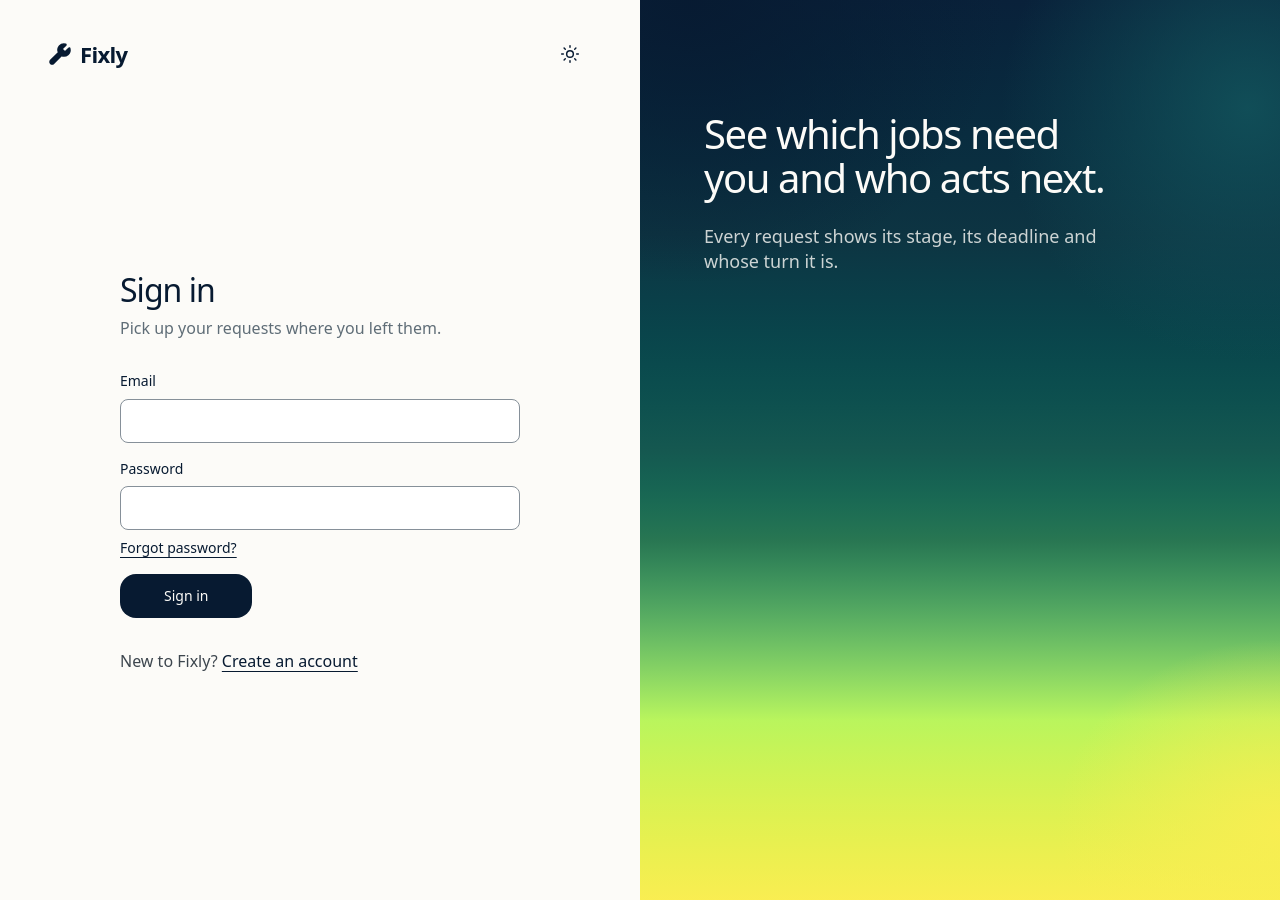
Test: login 401 shows the message and keeps values
The width and height of the screenshot is (1280, 900).
Type "a@b.com" into the field labelled "Email" at (320, 421), box [120,399,520,443]
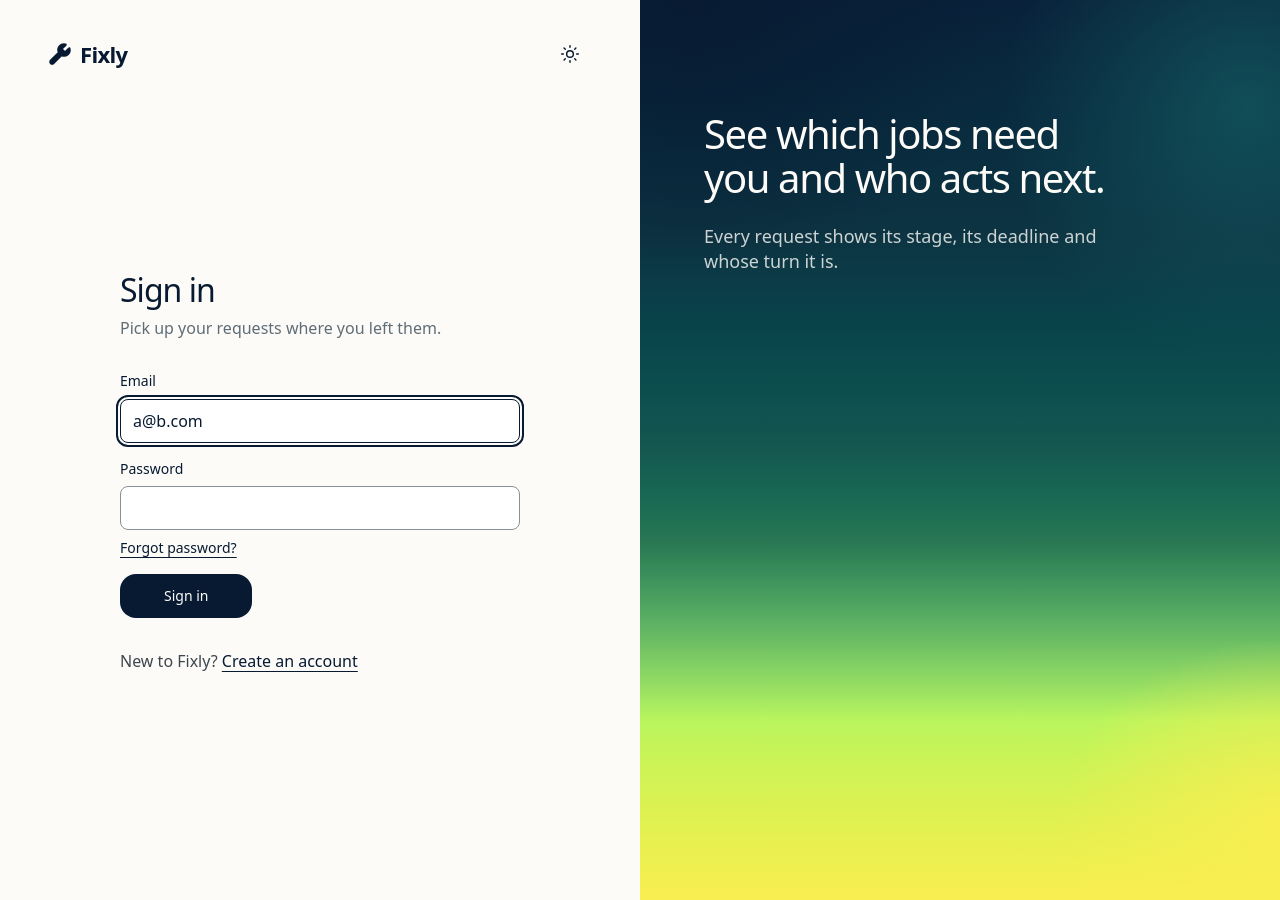
Type "secret" into the password field labelled "Password" at (320, 508), box [120,486,520,530]
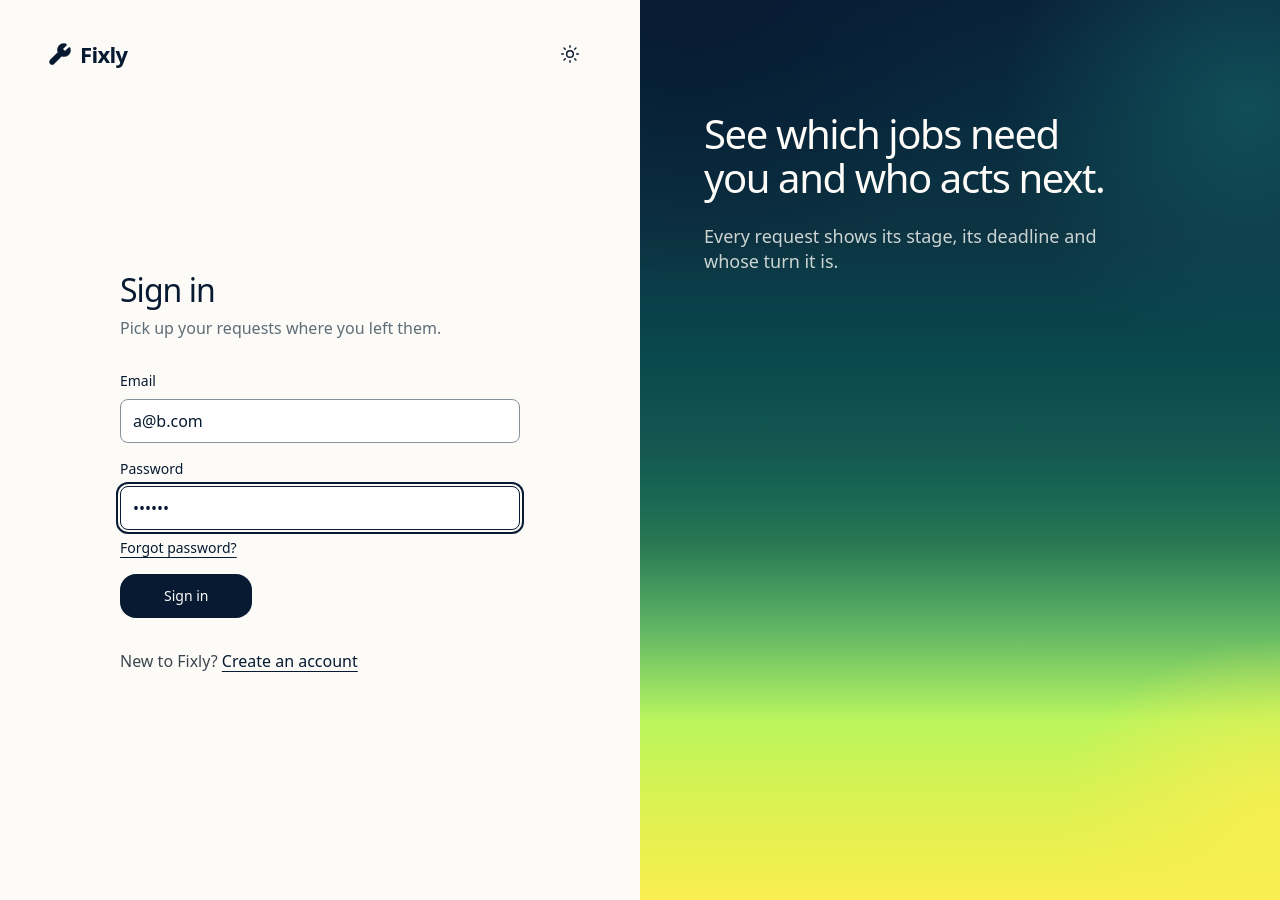
Click the button "Sign in" at (186, 596), box [120,574,252,618]
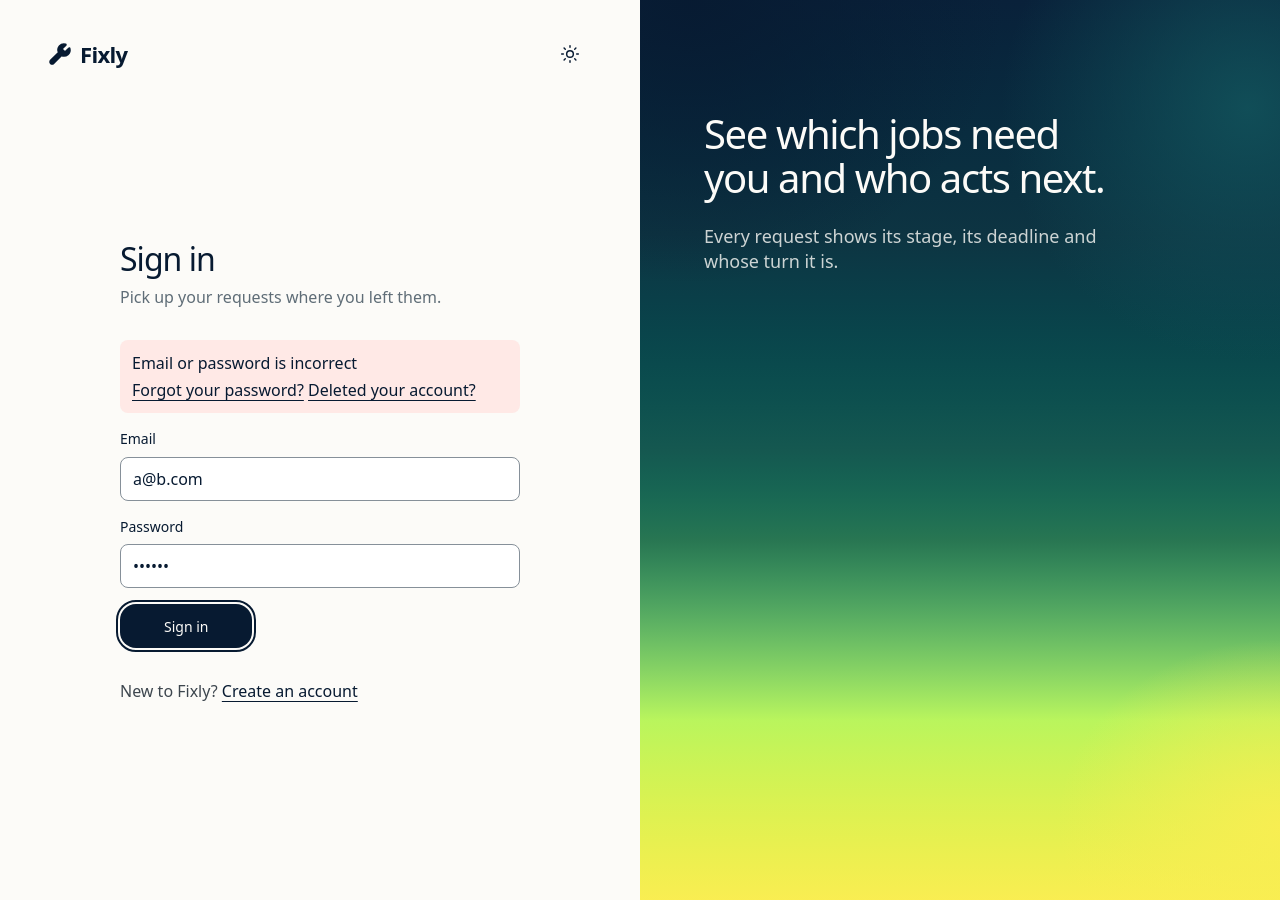
Check: the text "Email or password is incorrect" is shown, box [132,352,357,374]
